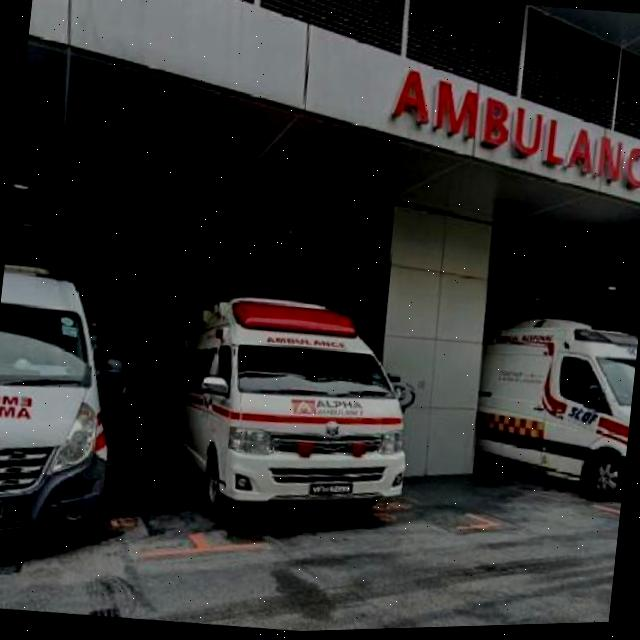emergency: (158, 285, 424, 535), (0, 257, 132, 564), (468, 311, 640, 508)
